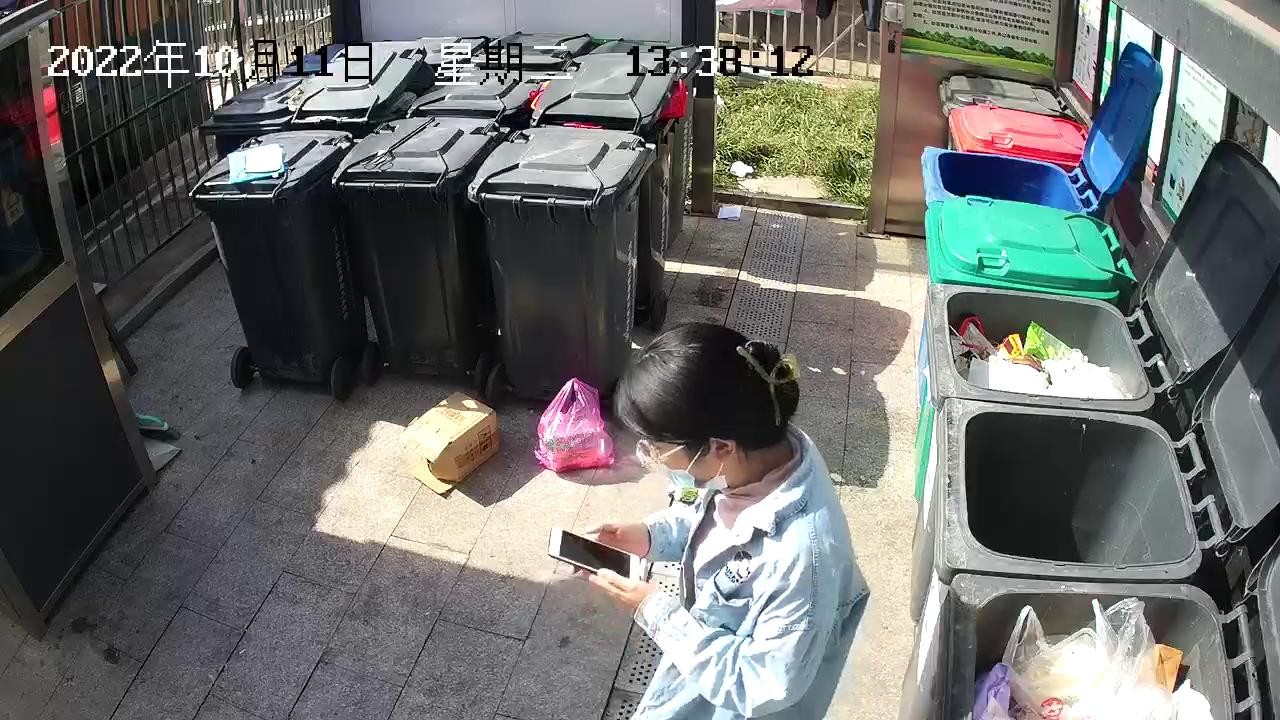garbage-bag: (530, 371, 622, 479)
worker: (544, 318, 878, 720)
zhizhipin: (397, 386, 502, 501)
